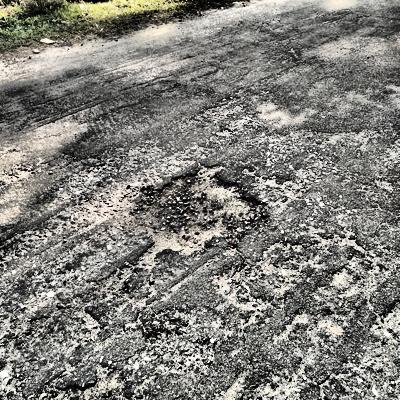pothole: (119, 161, 270, 257), (42, 365, 131, 399)
